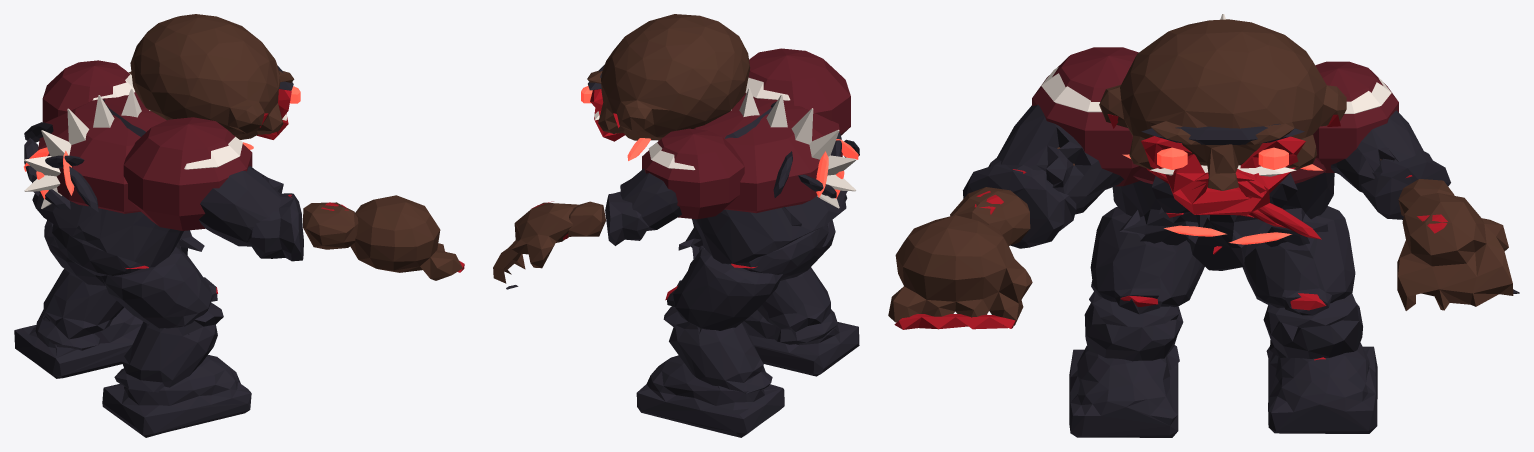
Rendered from inf.mega-alpha.lod1.glb.
3 views of the same model, side by side, from view 1: azimuth 30°, elevation 25°; view 2: azimuth 150°, elevation 25°; view 3: azimuth 270°, elevation 25° (orthographic). The views are drawn at different scales.
Parts seen in each view (by area): view 1: torso, head, footR, handR, legR, shinR, foreArmR, shinL, footL, armR, hip, legL; view 2: torso, head, footL, legL, shinL, shinR, footR, handL, foreArmL, armL, hip, legR; view 3: head, torso, handR, handL, footR, footL, legR, legL, foreArmR, armR, shinR, shinL (+2 smaller).
Part boxes in pixels (box(x1,y1,x2,y2)): torso: box(24, 60, 253, 267); head: box(130, 14, 300, 139); footR: box(102, 355, 251, 437); handR: box(350, 195, 464, 280); legR: box(101, 247, 217, 334); shinR: box(114, 302, 223, 392); foreArmR: box(248, 193, 358, 261); shinL: box(36, 269, 123, 350); footL: box(14, 307, 143, 378); armR: box(199, 166, 283, 246); hip: box(52, 224, 144, 276); legL: box(44, 220, 105, 285); torso: box(627, 48, 859, 264); head: box(581, 14, 750, 141); footL: box(636, 355, 784, 437); legL: box(665, 248, 782, 333); shinL: box(663, 306, 772, 393); shinR: box(757, 267, 837, 344); footR: box(742, 310, 859, 376); handL: box(493, 201, 578, 289); foreArmL: box(568, 191, 648, 245); armL: box(620, 168, 681, 230); hip: box(733, 224, 828, 274); legR: box(780, 220, 835, 280); head: box(1099, 19, 1346, 215); torso: box(1032, 14, 1398, 270); handR: box(888, 215, 1032, 329); handL: box(1397, 193, 1519, 310); footR: box(1069, 345, 1178, 437); footL: box(1268, 342, 1377, 433); legR: box(1090, 207, 1204, 314); legL: box(1242, 206, 1355, 315); foreArmR: box(950, 158, 1076, 248); armR: box(996, 104, 1123, 214); shinR: box(1084, 291, 1183, 370); shinL: box(1263, 293, 1362, 368).
Bounding box in the file's own units: 2.35 × 2.48 × 3.39.
